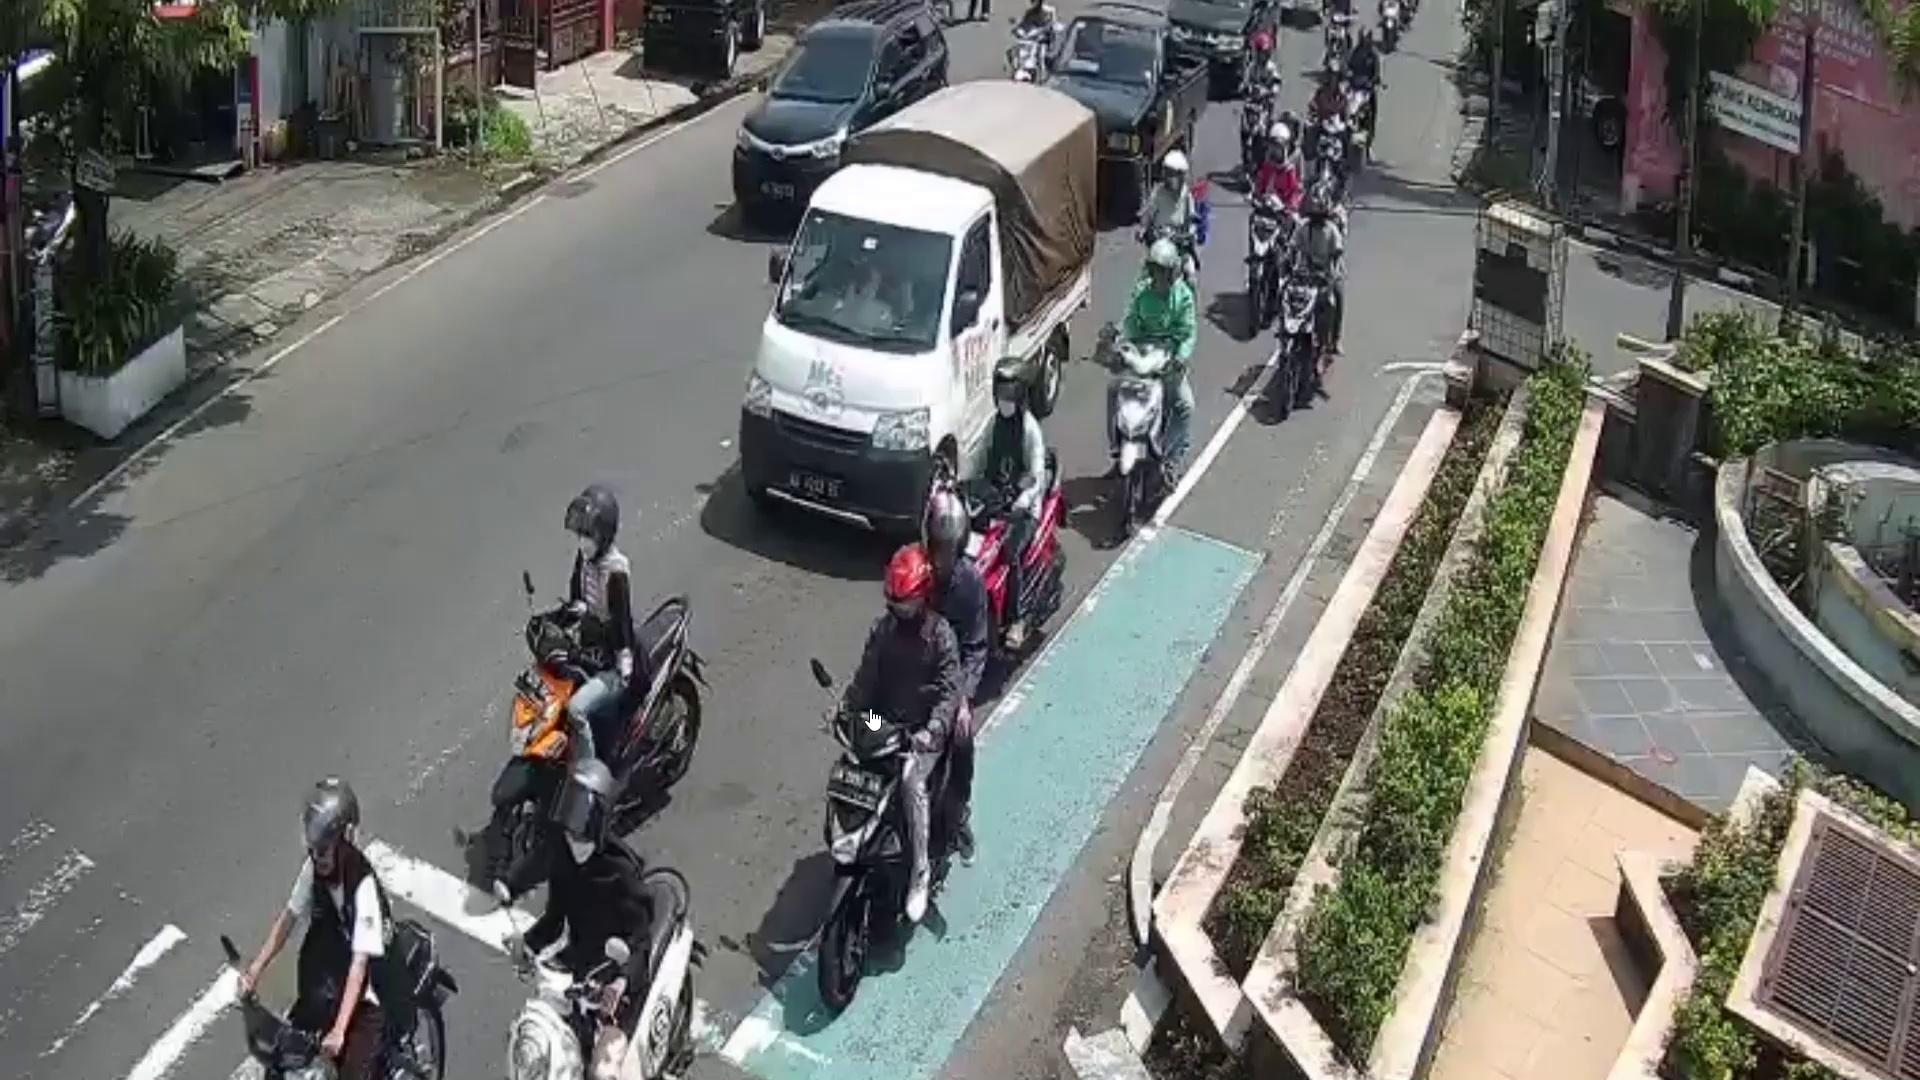car: (742, 160, 1089, 535), (728, 0, 948, 220), (1042, 4, 1207, 207), (1145, 0, 1282, 87)
motorbike: (491, 593, 702, 889), (516, 861, 700, 1080), (811, 709, 939, 993), (1105, 339, 1174, 560), (1282, 255, 1321, 417)
